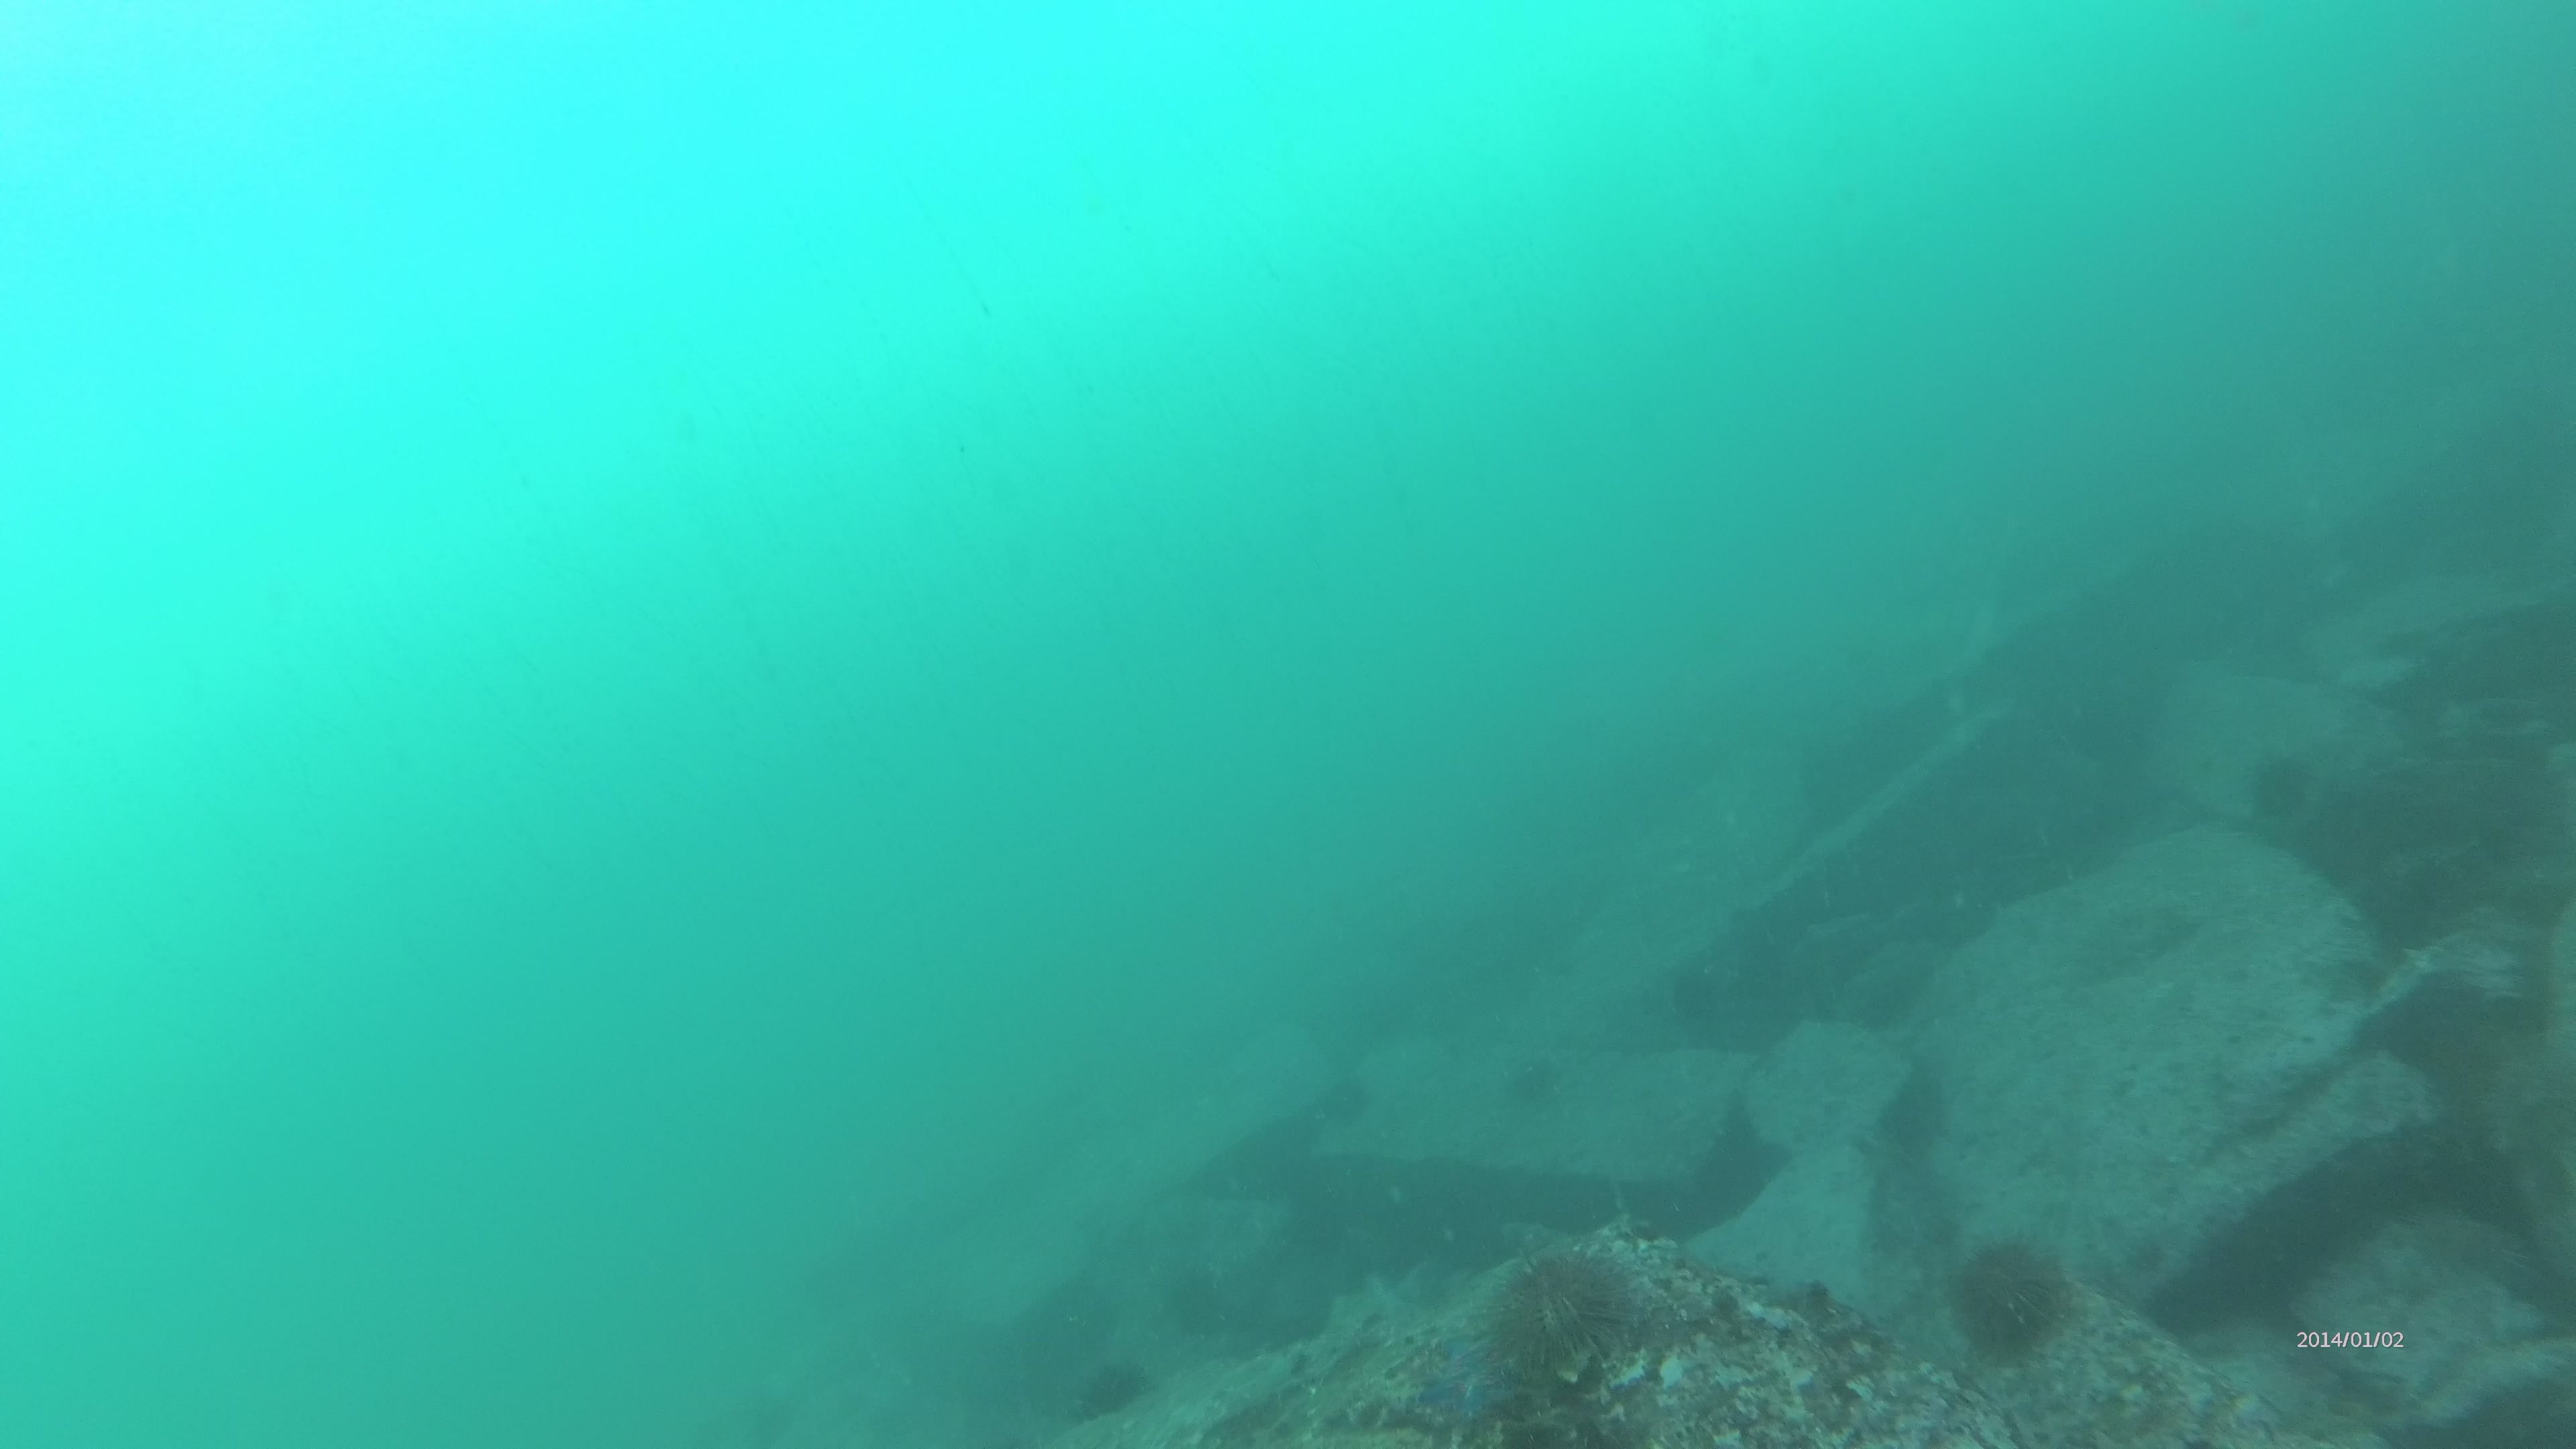echinus: (1468, 1246, 1614, 1359), (1950, 1231, 2070, 1345), (2235, 754, 2309, 824), (1062, 1361, 1152, 1412)
